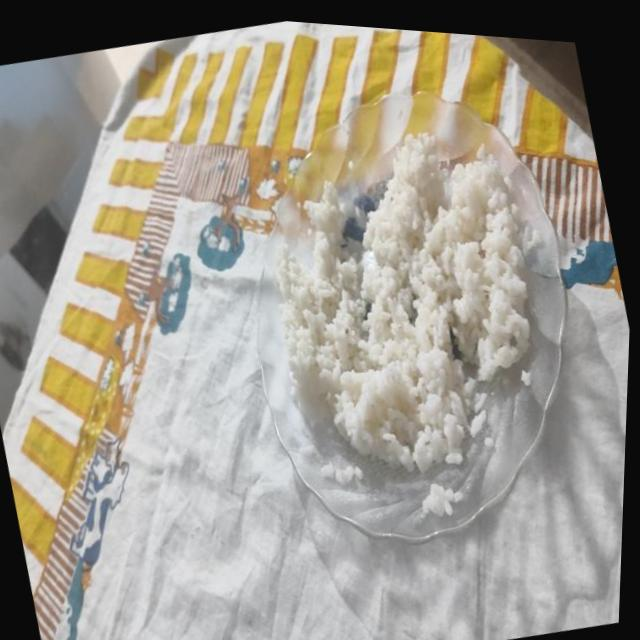nasi_putih: (276, 131, 529, 473)
